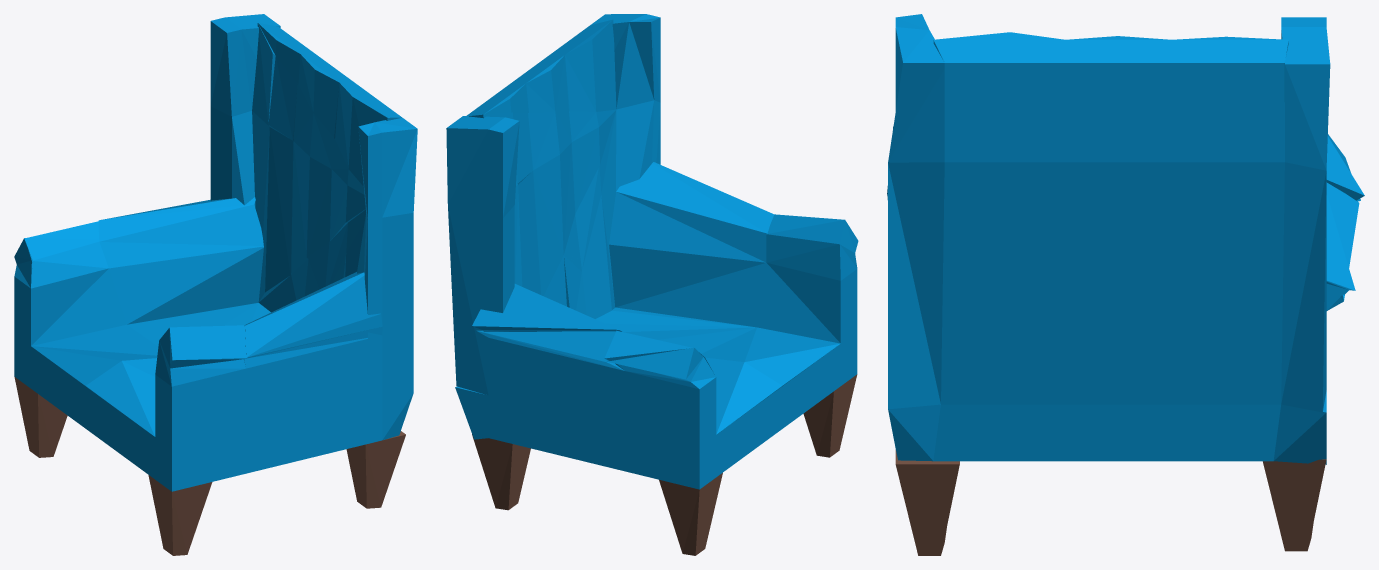
File: armchair-by-oli-lanestead-f4dWkHizhSZ.glb
3 views of the same model, side by side, from view 1: azimuth 30°, elevation 25°; view 2: azimuth 150°, elevation 25°; view 3: azimuth 270°, elevation 25° (orthographic). The views are drawn at different scales.
Parts seen in each view (by area): view 1: group49029193, group51732316, group799575688, group296006622; view 2: group49029193, group296006622, group1299771434, group51732316; view 3: group49029193, group799575688, group1299771434.
Boxes of the visible parts, x1=… form: group49029193: x1=14, y1=14, x2=417, y2=491; group51732316: x1=148, y1=475, x2=212, y2=555; group799575688: x1=346, y1=431, x2=405, y2=508; group296006622: x1=14, y1=377, x2=67, y2=457; group49029193: x1=446, y1=14, x2=858, y2=489; group296006622: x1=659, y1=473, x2=722, y2=555; group1299771434: x1=472, y1=434, x2=530, y2=510; group51732316: x1=803, y1=374, x2=857, y2=457; group49029193: x1=887, y1=14, x2=1364, y2=464; group799575688: x1=895, y1=450, x2=959, y2=555; group1299771434: x1=1263, y1=459, x2=1326, y2=551.
Size of the model in its own units: 1.07 by 1.54 by 1.26.
